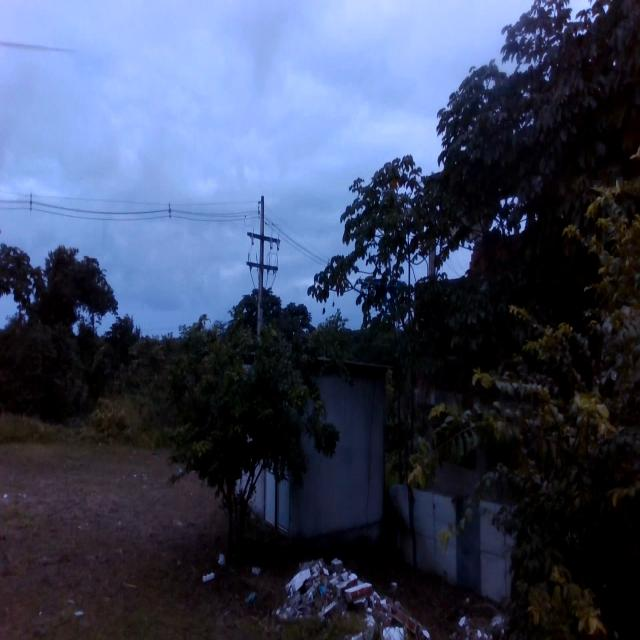-uav-: (366, 275, 410, 331)
